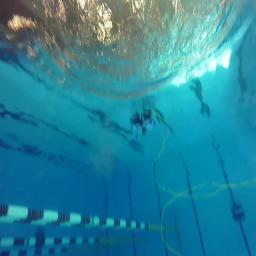Full: (230, 203, 246, 220)
